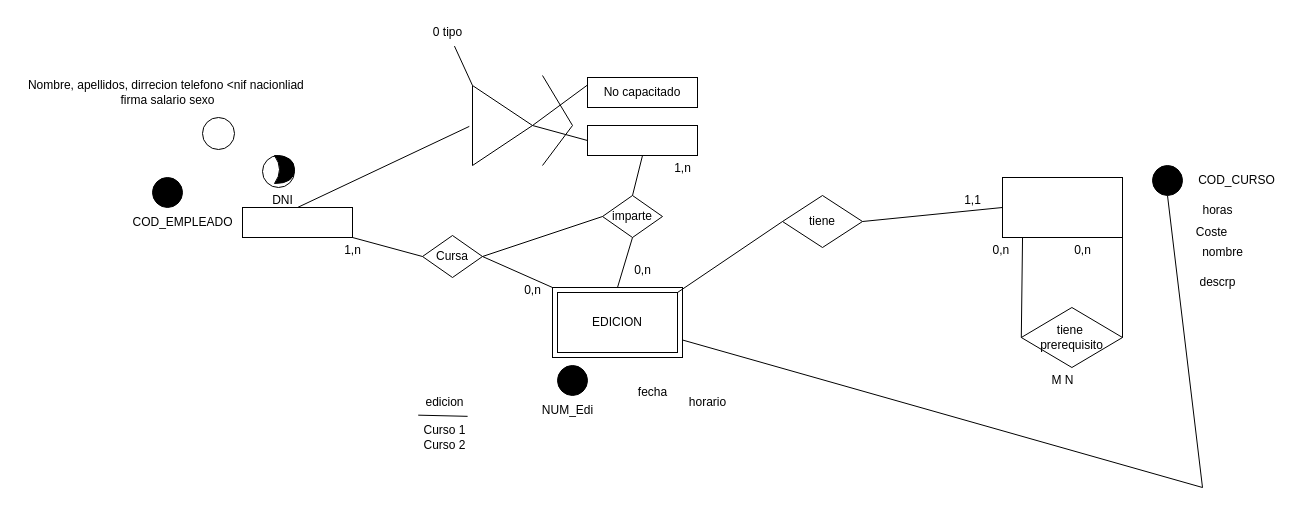
Image size: 1303x506. Some labels were removed from this diagram. Each missing label, with the centre of its shape:
Capacitado: pixel 642 140
Curso: pixel 1062 207
Empleados: pixel 297 222
es: pixel 502 125
